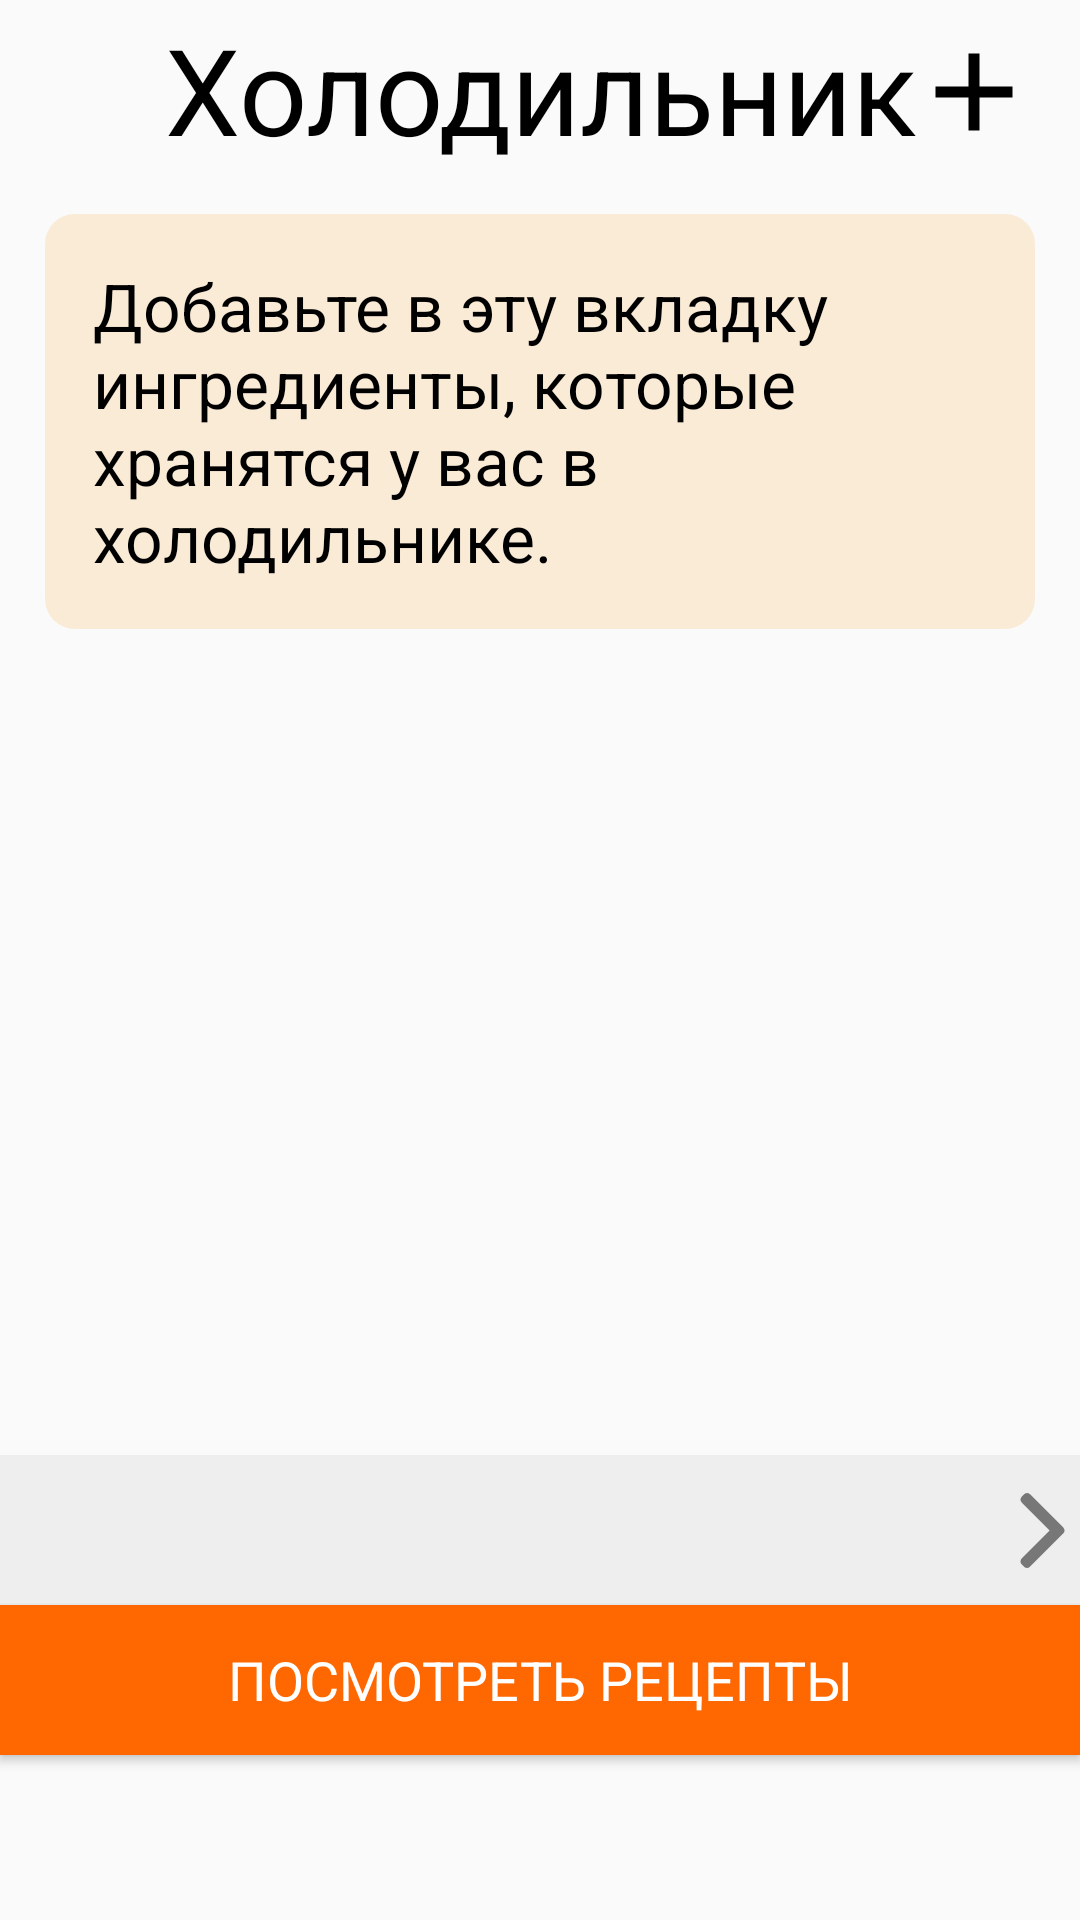

Screen size 1080 × 1920. Icon name, then its box in pixels as (x1, y1, x2, y2):
plus: (935, 53, 1013, 131)
right arrow: (1020, 1493, 1065, 1568)
